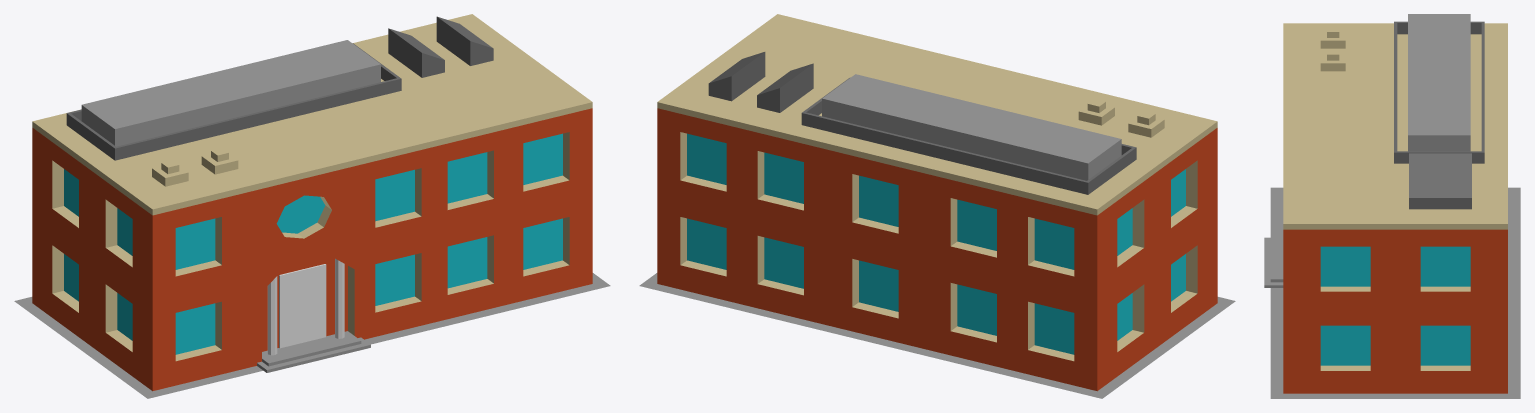
Rendered from brick-medium.fbx.
The picture shows the model from 3 angles, left to right: view 1: azimuth 30°, elevation 25°; view 2: azimuth 150°, elevation 25°; view 3: azimuth 270°, elevation 25°; orthographic projection. The views are drawn at different scales.
Visible parts, largest first — view 1: brick-medium; view 2: brick-medium; view 3: brick-medium.
Boxes of the visible parts, box(x1,y1,x2,y2) form: brick-medium: box(14, 14, 610, 398); brick-medium: box(639, 14, 1235, 398); brick-medium: box(1264, 14, 1520, 398).
Bounding box in the file's own units: 400 × 171 × 205.
